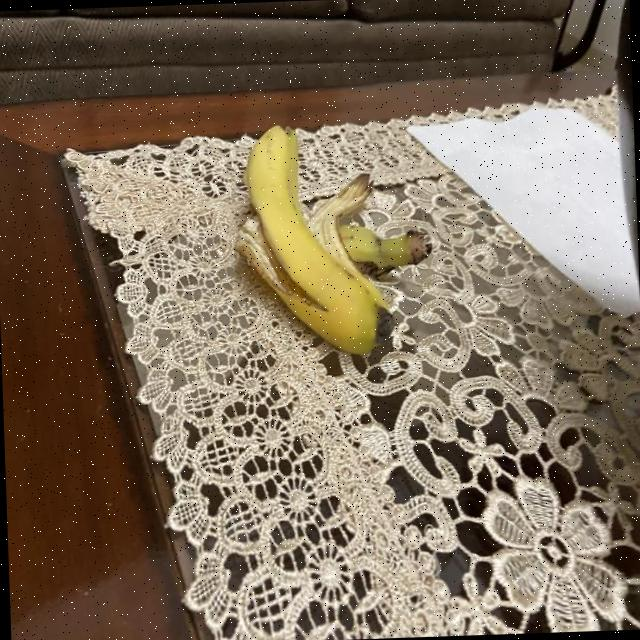banana-peel: (228, 117, 431, 360)
